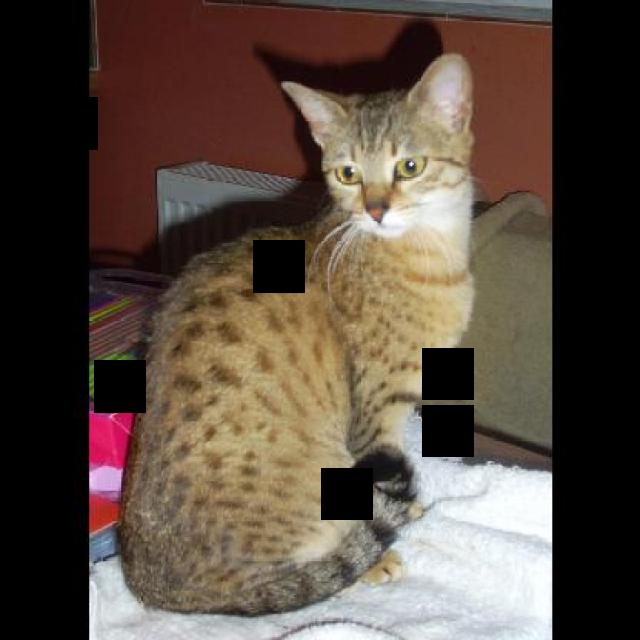unauthorized: (114, 49, 478, 617)
